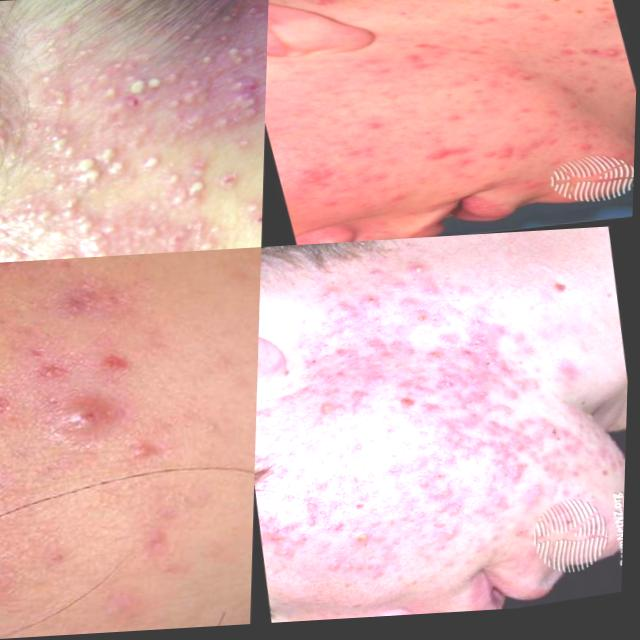8: (476, 182, 520, 196), (404, 51, 430, 68), (316, 200, 350, 212), (500, 153, 525, 164), (393, 196, 423, 205)
9: (46, 50, 127, 116), (177, 18, 250, 78), (73, 137, 135, 193), (225, 59, 267, 136), (0, 193, 60, 244), (160, 165, 213, 217), (170, 85, 220, 137), (30, 113, 77, 167), (120, 233, 211, 256), (59, 195, 97, 239), (239, 0, 270, 49), (126, 433, 172, 466), (135, 66, 171, 100), (0, 232, 39, 262), (232, 188, 264, 219), (406, 254, 437, 282), (314, 394, 342, 421), (364, 290, 391, 314), (58, 238, 88, 259), (351, 528, 382, 548), (85, 238, 116, 258), (0, 101, 11, 156), (599, 48, 626, 66), (439, 114, 475, 127), (361, 125, 391, 136), (303, 178, 328, 185)
blackheads: (129, 519, 188, 565), (301, 486, 331, 532), (267, 516, 308, 544), (415, 150, 481, 167), (432, 372, 466, 399), (465, 352, 492, 385), (486, 344, 511, 374), (508, 459, 534, 485), (428, 344, 453, 369), (436, 487, 464, 508), (491, 490, 514, 513), (530, 488, 550, 511), (463, 392, 489, 409)
pustules: (38, 383, 145, 456)
